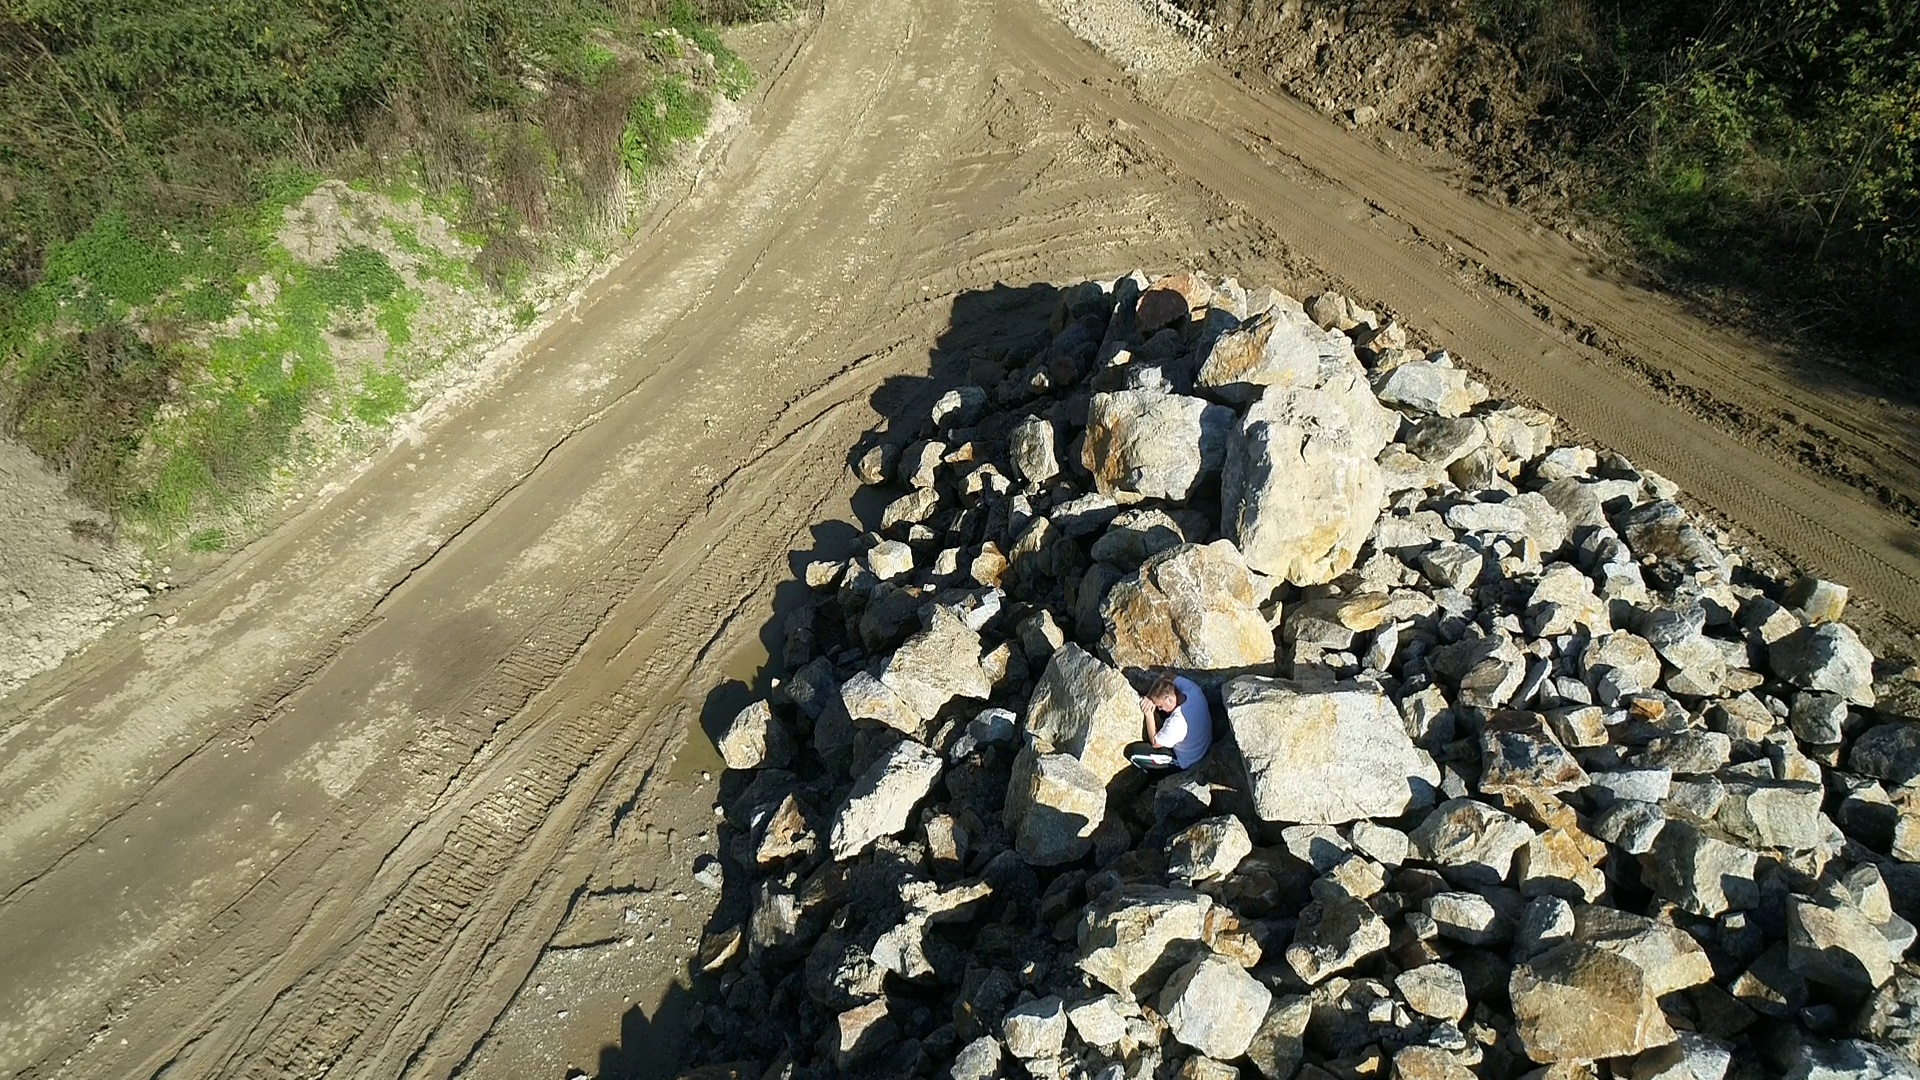person: (1122, 666, 1212, 779)
